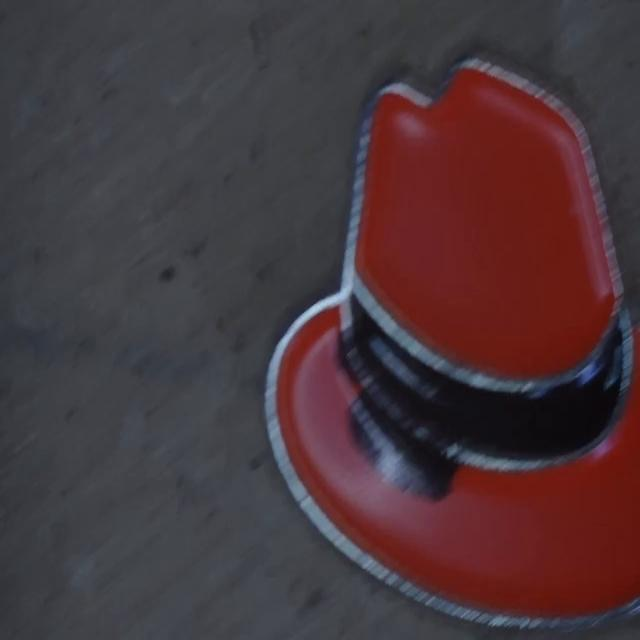Hatband: (341, 276, 634, 471)
Paint_Leak: (350, 393, 456, 500)
RedHatPin: (265, 60, 640, 627)
